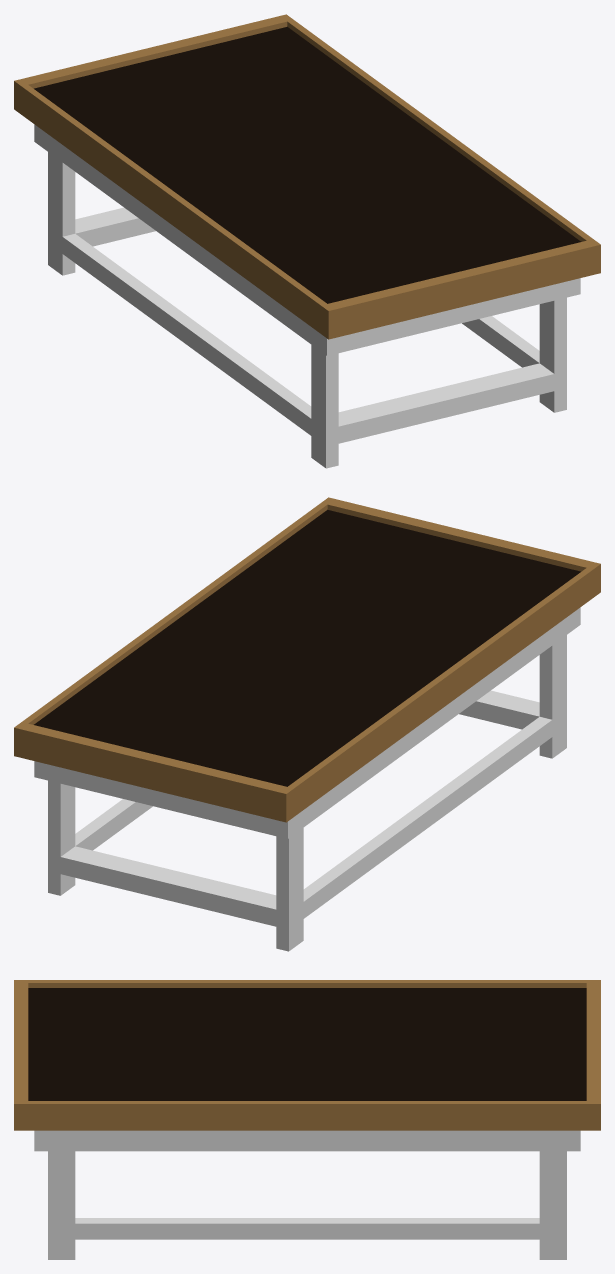
The model's file is experimental farm - flat.fbx.
3 views of the same model, one above another, from view 1: azimuth 30°, elevation 25°; view 2: azimuth 150°, elevation 25°; view 3: azimuth 270°, elevation 25° (orthographic). The views are drawn at different scales.
Visible parts, largest first — view 1: Cube.003, Cube.002, Cube.001, Cube; view 2: Cube.003, Cube.002, Cube.001, Cube; view 3: Cube.003, Cube.002, Cube.001, Cube.
Boxes of the visible parts, box(x1,y1,x2,y2) form: Cube.003: box(34, 26, 580, 303); Cube.002: box(14, 14, 600, 339); Cube.001: box(48, 152, 566, 468); Cube: box(34, 124, 580, 355); Cube.003: box(34, 509, 580, 786); Cube.002: box(14, 497, 600, 822); Cube.001: box(48, 635, 566, 951); Cube: box(34, 607, 580, 838); Cube.003: box(28, 988, 586, 1100); Cube.002: box(14, 980, 600, 1130); Cube.001: box(48, 1151, 566, 1259); Cube: box(34, 1130, 580, 1151).
Bounding box in the file's own units: 215 × 132 × 430.
